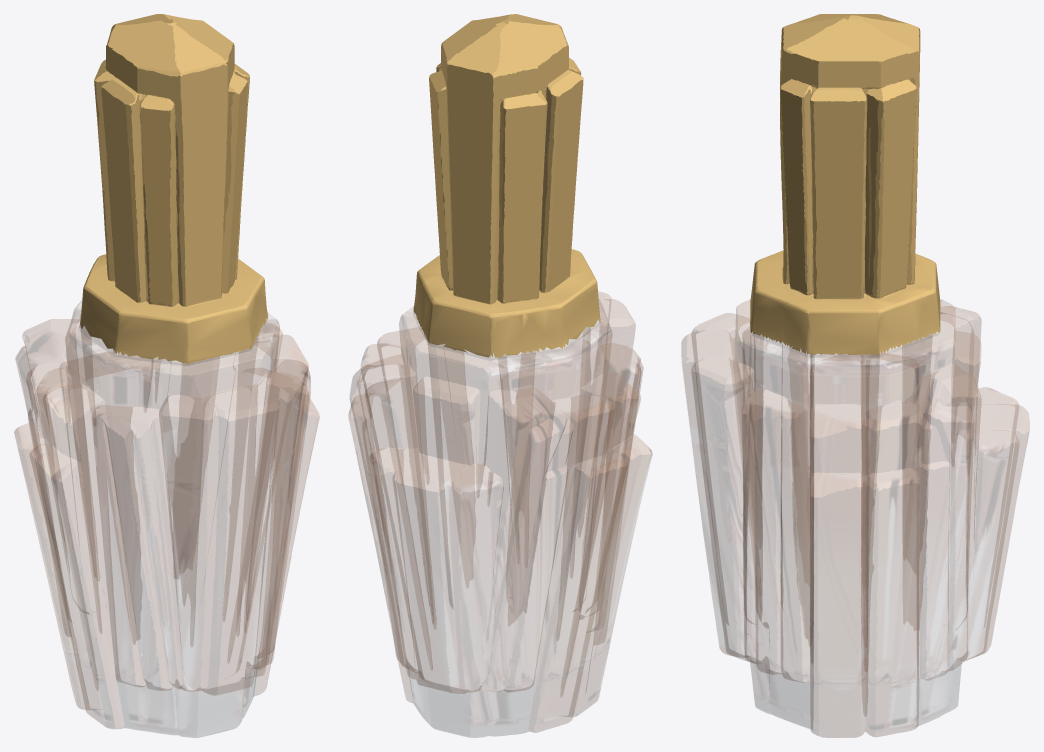
Rendered from perfume-parts.glb.
The picture shows the model from 3 angles, left to right: view 1: azimuth 30°, elevation 25°; view 2: azimuth 150°, elevation 25°; view 3: azimuth 270°, elevation 25°; orthographic projection.
Visible parts, largest first — view 1: glass, cap, collar; view 2: glass, cap, collar; view 3: glass, cap, collar.
Part boxes in pixels (x1=…): glass: x1=14, y1=301, x2=319, y2=737; cap: x1=94, y1=14, x2=249, y2=305; collar: x1=79, y1=254, x2=267, y2=364; glass: x1=348, y1=291, x2=652, y2=737; cap: x1=429, y1=14, x2=583, y2=303; collar: x1=413, y1=249, x2=600, y2=357; glass: x1=681, y1=299, x2=1029, y2=737; cap: x1=780, y1=14, x2=920, y2=298; collar: x1=750, y1=250, x2=940, y2=354.
Size of the model in its own units: 0.8036 by 1.89 by 0.8741.
3 materials, 1 textured.
